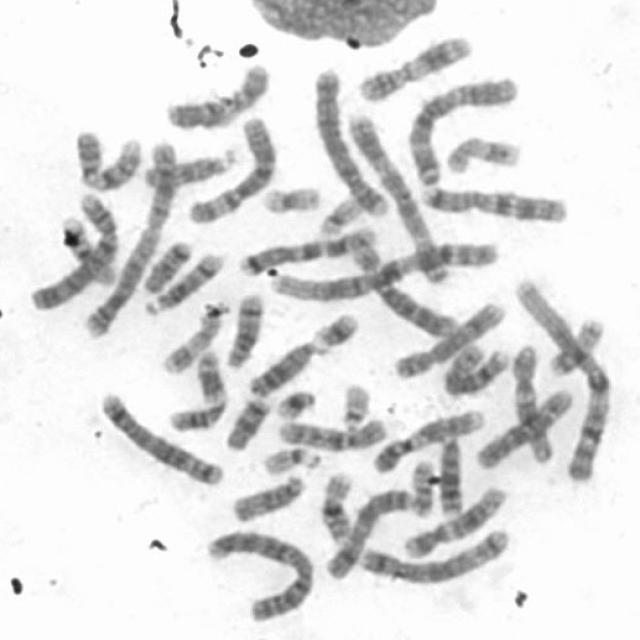A1: (511, 271, 615, 484), (265, 234, 503, 304)
A2: (79, 137, 182, 339), (199, 522, 317, 625)
A3: (342, 106, 452, 284), (402, 69, 524, 188)
B4: (310, 62, 392, 219), (23, 188, 122, 313)
B5: (93, 385, 226, 489), (354, 522, 514, 586)
C10: (469, 382, 577, 471), (270, 410, 390, 452)
C11: (350, 28, 476, 104), (162, 344, 230, 434)
C12: (396, 478, 510, 560), (505, 338, 558, 465)
C6: (344, 236, 461, 339), (181, 109, 280, 226)
C7: (234, 219, 381, 278), (415, 177, 572, 226)
C8: (386, 294, 508, 381), (438, 339, 514, 397)
C9: (368, 403, 487, 476), (68, 121, 145, 194)
D13: (243, 333, 324, 399), (434, 430, 468, 518)
D14: (138, 244, 226, 318), (220, 287, 266, 370)
D15: (228, 468, 309, 524), (140, 145, 240, 190)
E16: (56, 210, 120, 288), (313, 464, 358, 545)
E17: (157, 298, 228, 376), (439, 130, 524, 176)
E18: (138, 234, 195, 296), (219, 390, 275, 452)
F19: (256, 178, 324, 216), (312, 192, 365, 239)
F20: (543, 312, 608, 378), (404, 452, 438, 519)
G21: (308, 304, 362, 351), (270, 383, 319, 421)
G22: (259, 439, 324, 476), (334, 375, 375, 432)
X: (318, 481, 416, 582)
